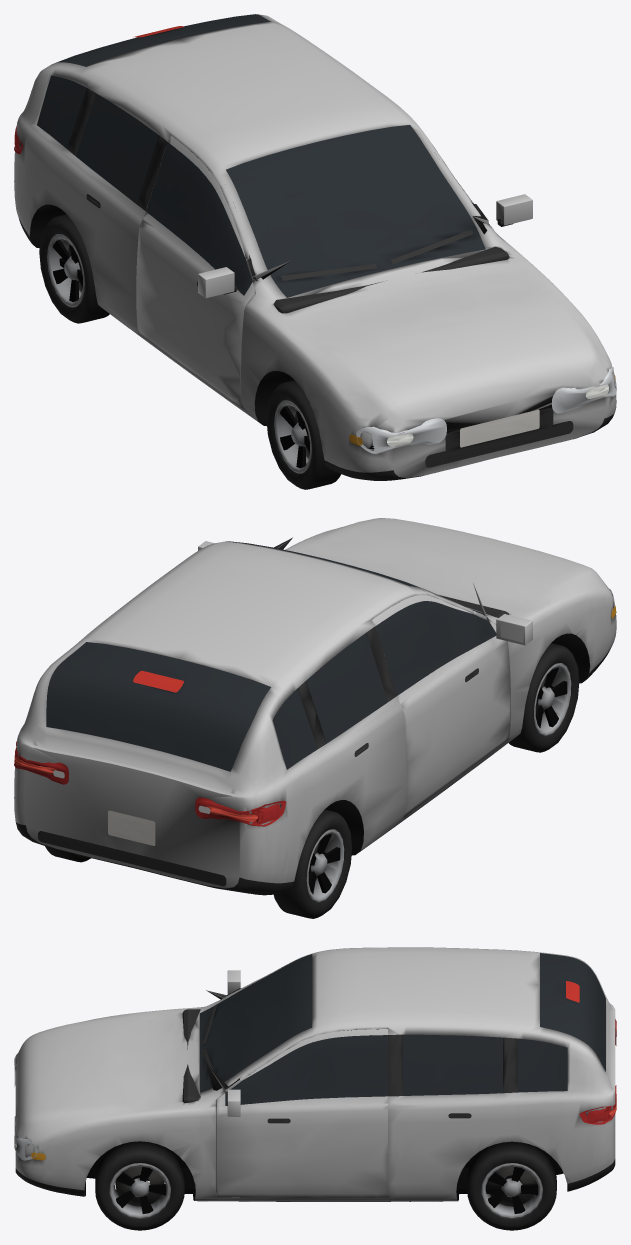
Rendered from car-hatch-v2.glb.
The picture shows the model from 3 angles, top to bottom: view 1: azimuth 30°, elevation 25°; view 2: azimuth 150°, elevation 25°; view 3: azimuth 270°, elevation 25°; orthographic projection. The views are drawn at different scales.
Parts seen in each view (by area): view 1: body, door_R, wheel_FR, wheel_RR, door_L; view 2: body, door_R, wheel_RR, wheel_FR; view 3: body, door_L, wheel_FL, wheel_RL.
Part boxes in pixels (x1,y1,x2,y2): body: [14, 14, 616, 480]; door_R: [136, 135, 255, 408]; wheel_FR: [266, 380, 341, 489]; wheel_RR: [39, 214, 109, 323]; door_L: [433, 146, 532, 237]; body: [14, 518, 616, 895]; door_R: [372, 595, 532, 817]; wheel_RR: [274, 809, 352, 918]; wheel_FR: [509, 643, 579, 752]; body: [14, 947, 616, 1201]; door_L: [217, 1029, 388, 1197]; wheel_FL: [95, 1141, 184, 1230]; wheel_RL: [467, 1141, 556, 1230].
Size of the model in its own units: 2.14 by 1.53 by 4.17.
